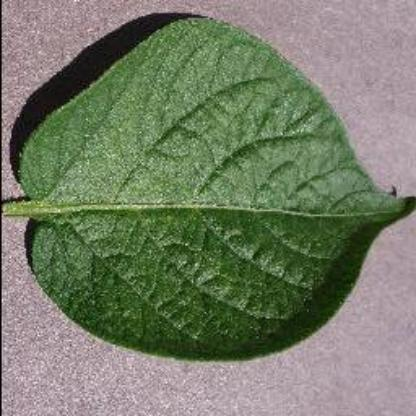Healthy-plant: (15, 10, 395, 366)
